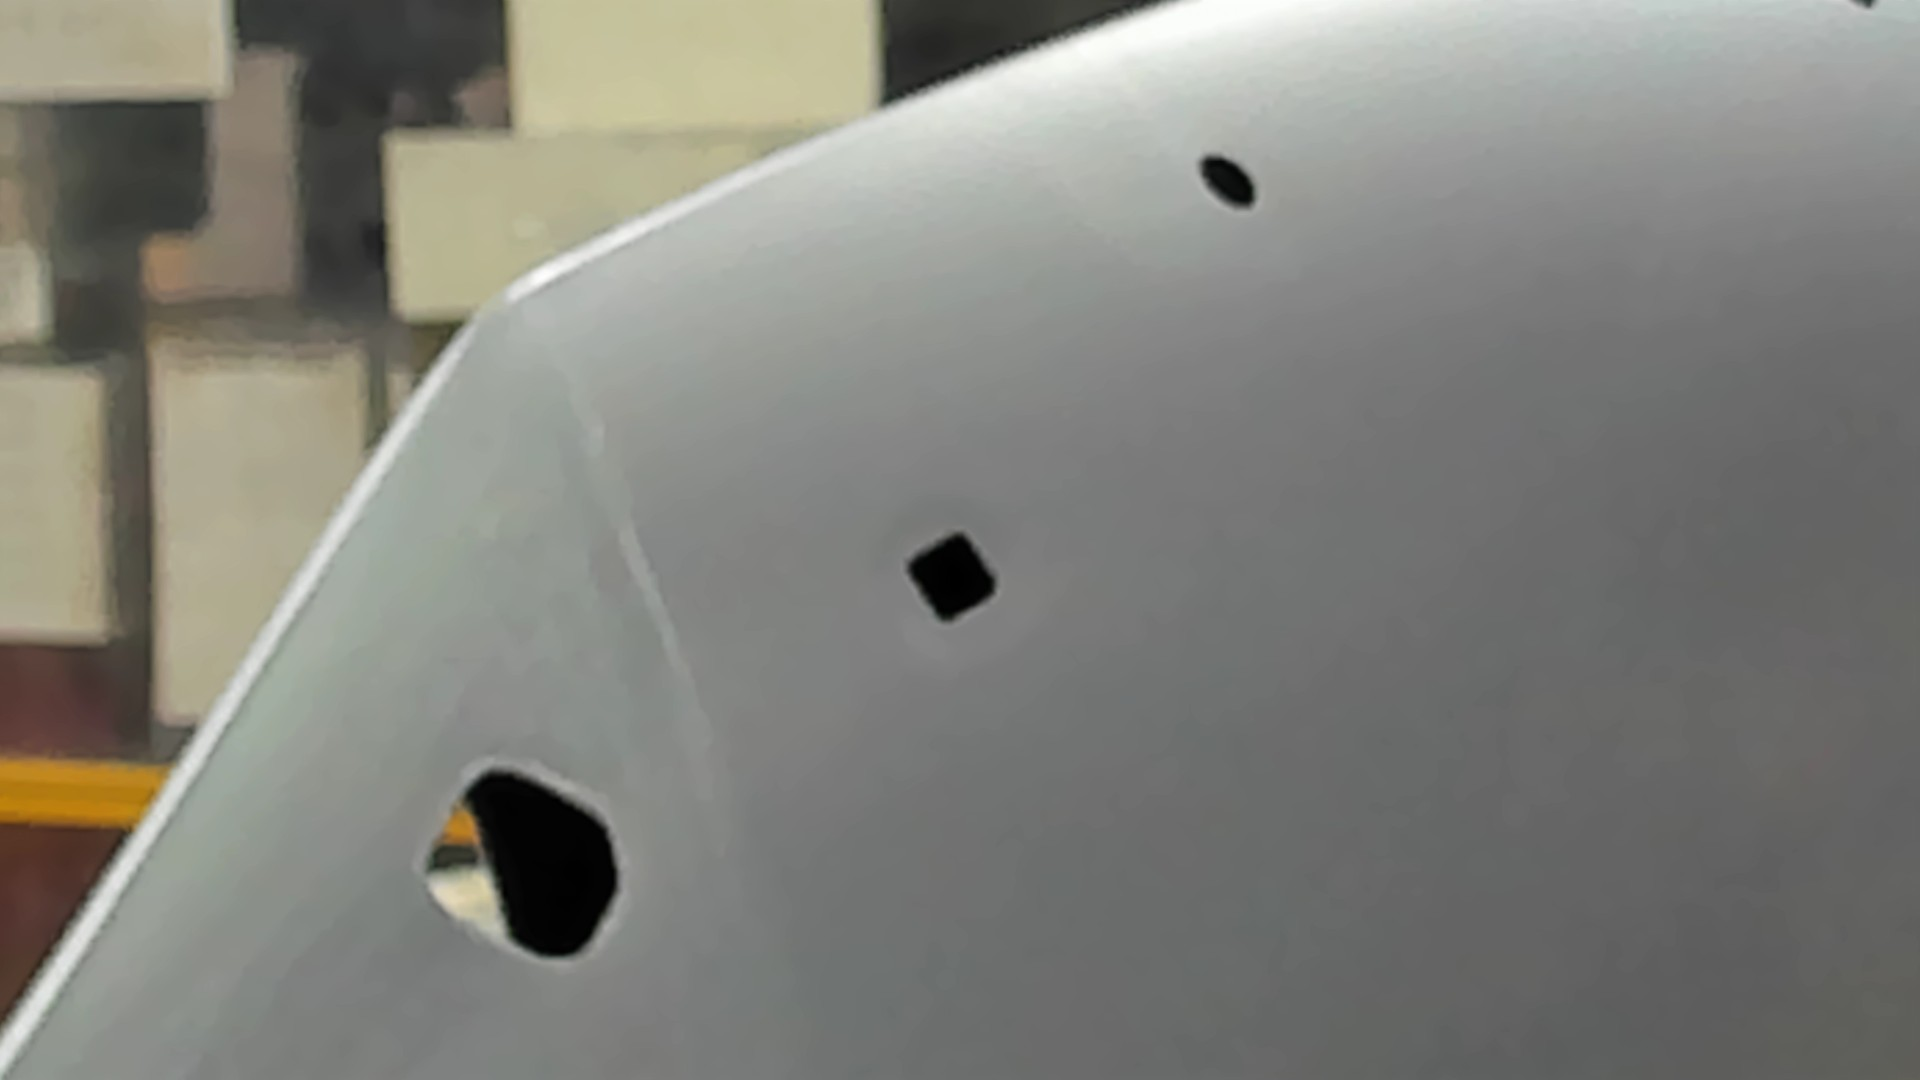chico: (1196, 146, 1261, 214)
grande: (415, 754, 629, 973)
mediano: (898, 522, 1002, 626)
